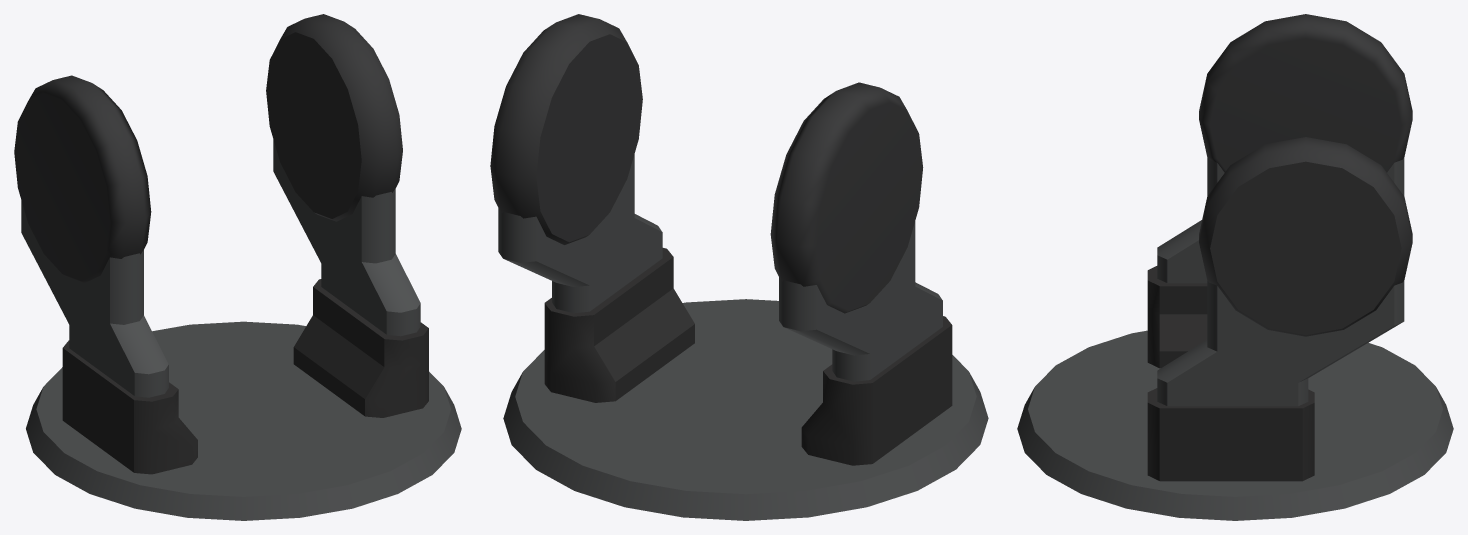
The model's file is Turret_004_Part_01.fbx.
3 views of the same model, side by side, from view 1: azimuth 30°, elevation 25°; view 2: azimuth 150°, elevation 25°; view 3: azimuth 270°, elevation 25° (orthographic). The views are drawn at different scales.
Parts seen in each view (by area): view 1: Turret_004_Part_01; view 2: Turret_004_Part_01; view 3: Turret_004_Part_01.
Part boxes in pixels (x1,y1,x2,y2): Turret_004_Part_01: [14, 14, 461, 520]; Turret_004_Part_01: [490, 14, 988, 520]; Turret_004_Part_01: [1017, 14, 1453, 520].
Bounding box in the file's own units: 139 × 139 × 123.
